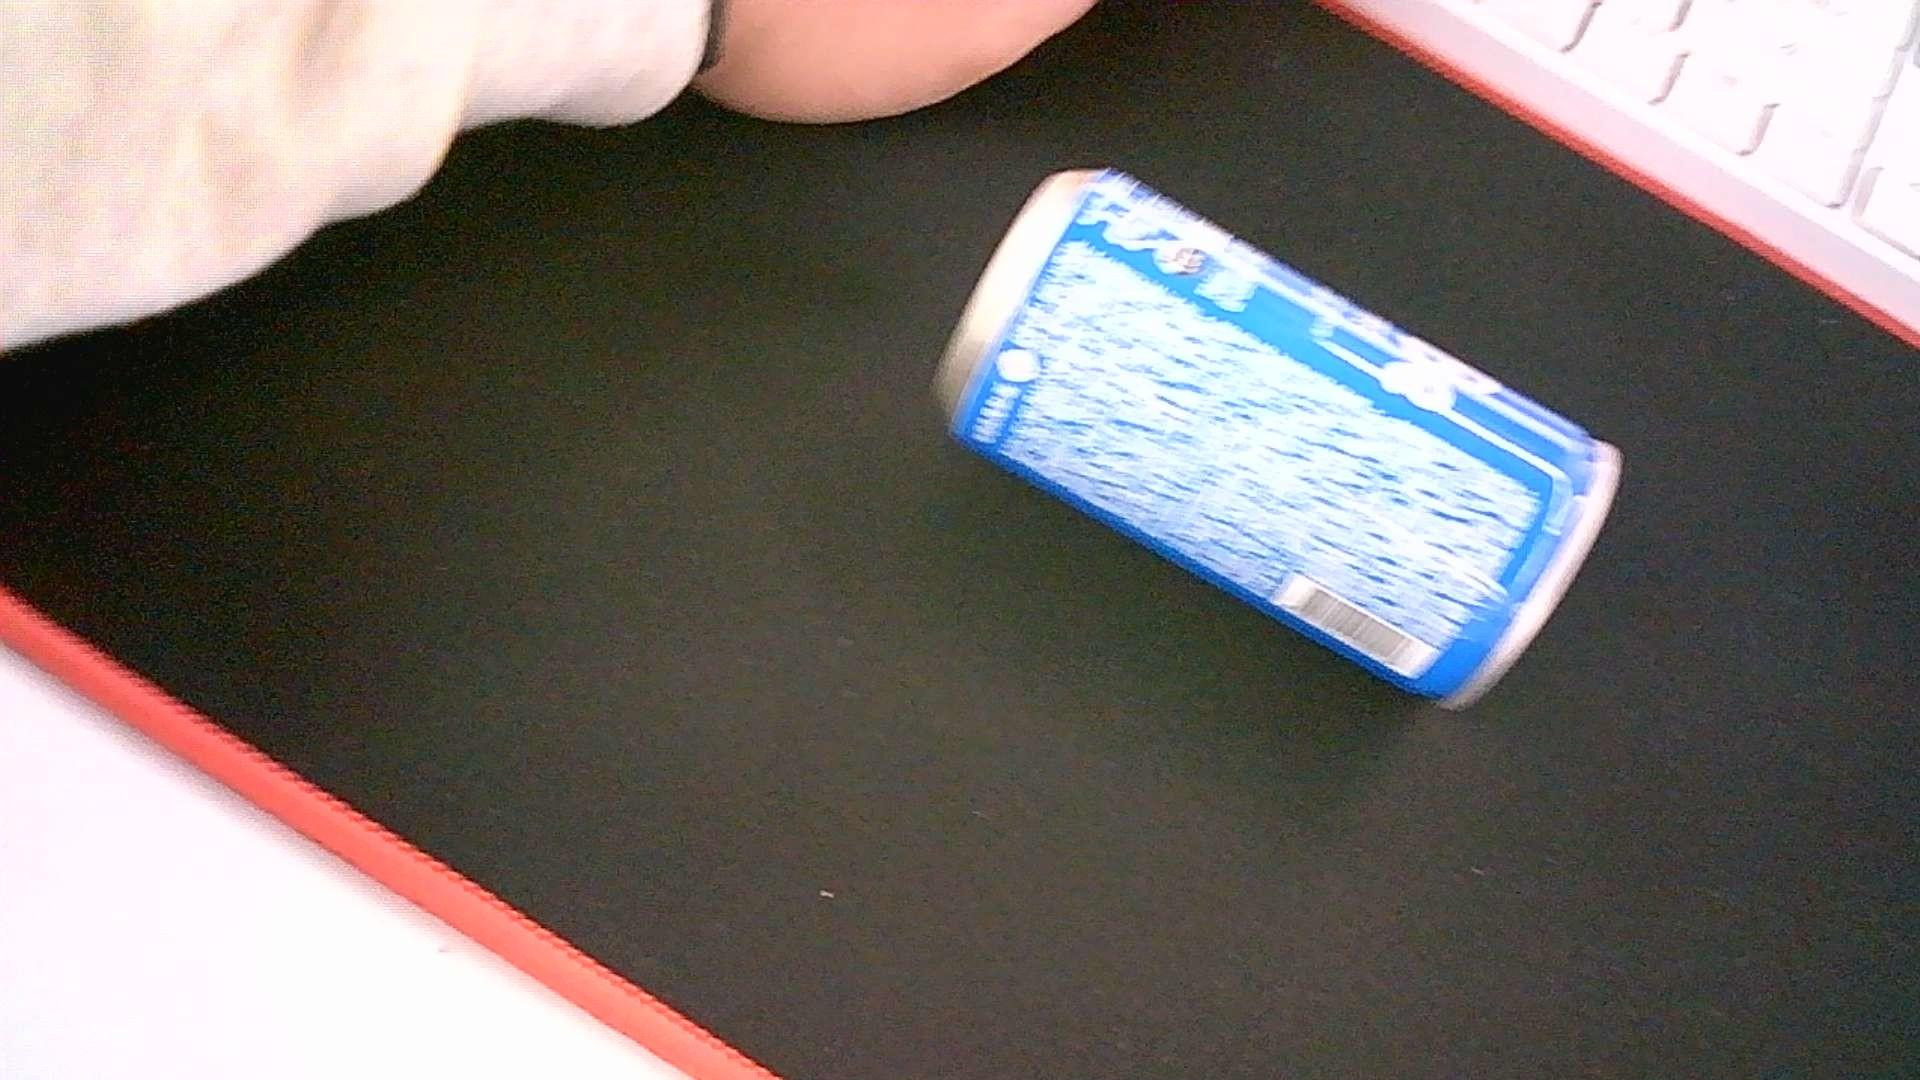letsbe: (934, 166, 1625, 709)
